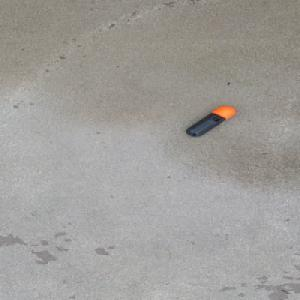PlasticPart: (185, 105, 236, 137)
